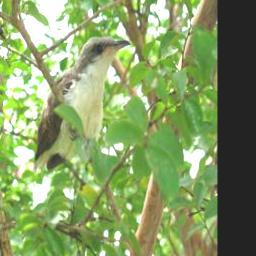Cuckoo: (32, 34, 128, 177)
